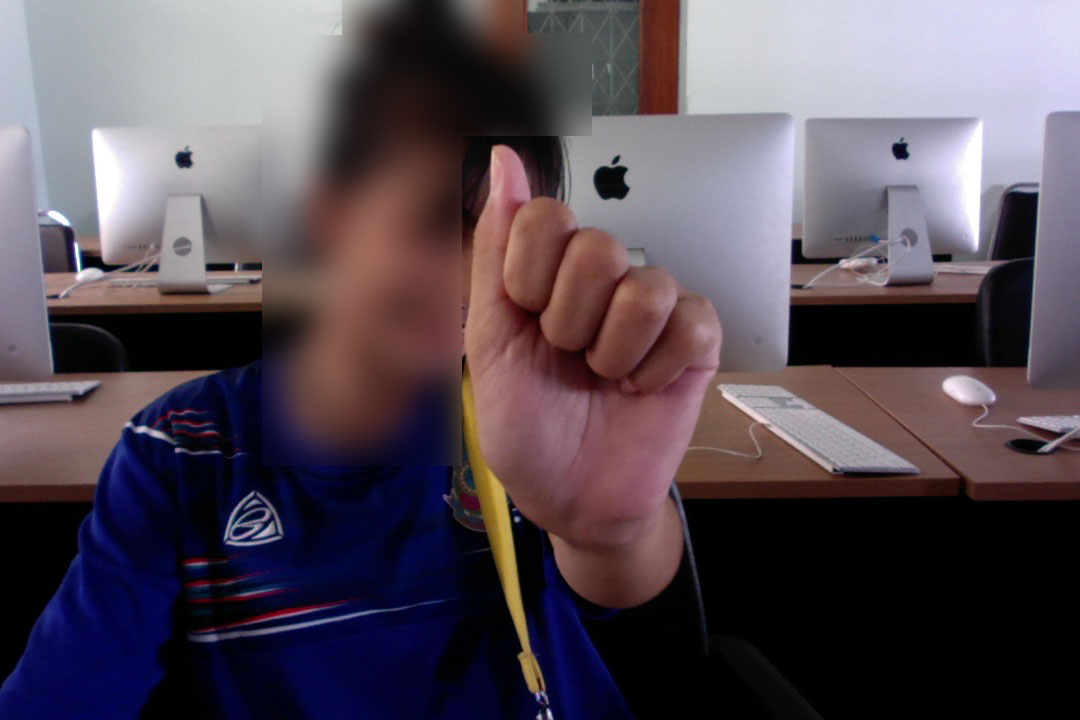or: (437, 132, 737, 530)
